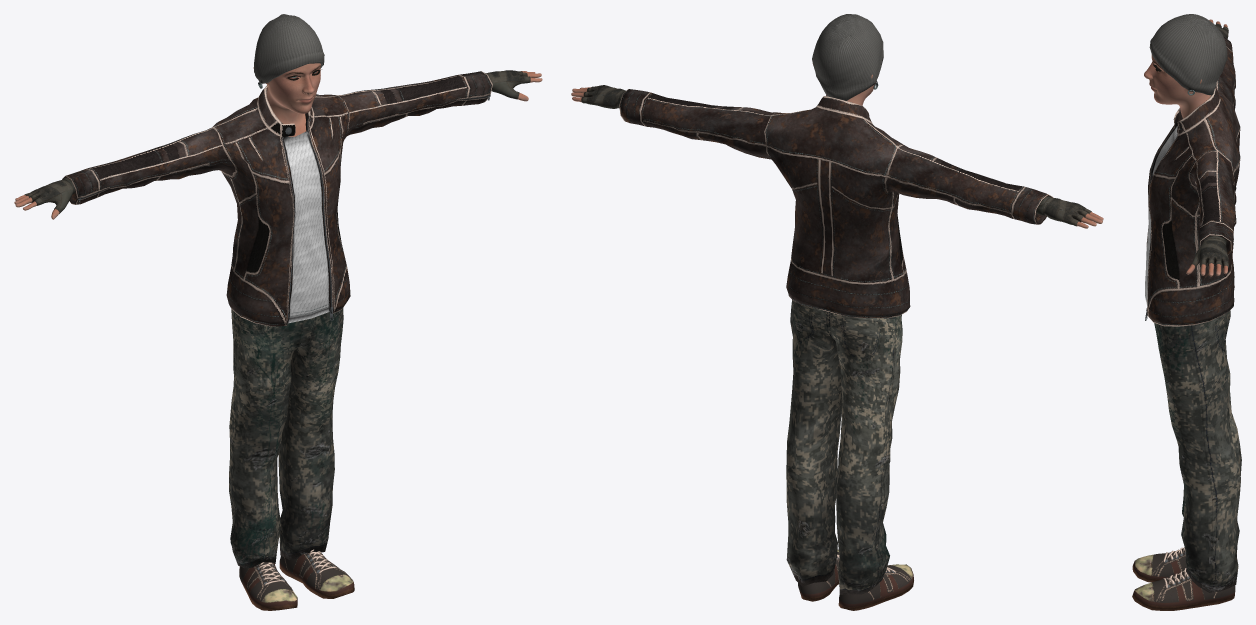
Rendered from ogulkarakter.obj.
3 views of the same model, side by side, from view 1: azimuth 30°, elevation 25°; view 2: azimuth 150°, elevation 25°; view 3: azimuth 270°, elevation 25° (orthographic).
Parts seen in each view (by area): view 1: Tops, Bottoms, Shoes, Hats, Body, Gloves; view 2: Tops, Bottoms, Hats, Shoes, Gloves; view 3: Tops, Bottoms, Hats, Shoes, Body, Gloves.
Boxes of the visible parts, box(x1,y1,x2,y2) form: Tops: box(62, 71, 492, 326); Bottoms: box(229, 308, 343, 568); Shoes: box(239, 549, 354, 610); Hats: box(254, 14, 324, 88); Body: box(14, 63, 542, 219); Gloves: box(24, 70, 530, 213); Tops: box(619, 89, 1053, 318); Bottoms: box(786, 300, 902, 594); Hats: box(812, 14, 883, 100); Shoes: box(798, 549, 913, 610); Gloves: box(581, 85, 1091, 226); Tops: box(1145, 36, 1240, 326); Bottoms: box(1154, 310, 1241, 592); Hats: box(1149, 14, 1227, 95); Shoes: box(1132, 547, 1235, 610); Body: box(1144, 19, 1227, 276); Gloves: box(1190, 24, 1229, 268).
Size of the model in its own units: 166 by 172 by 29.91.
Materials: 6 (6 with a texture image).
